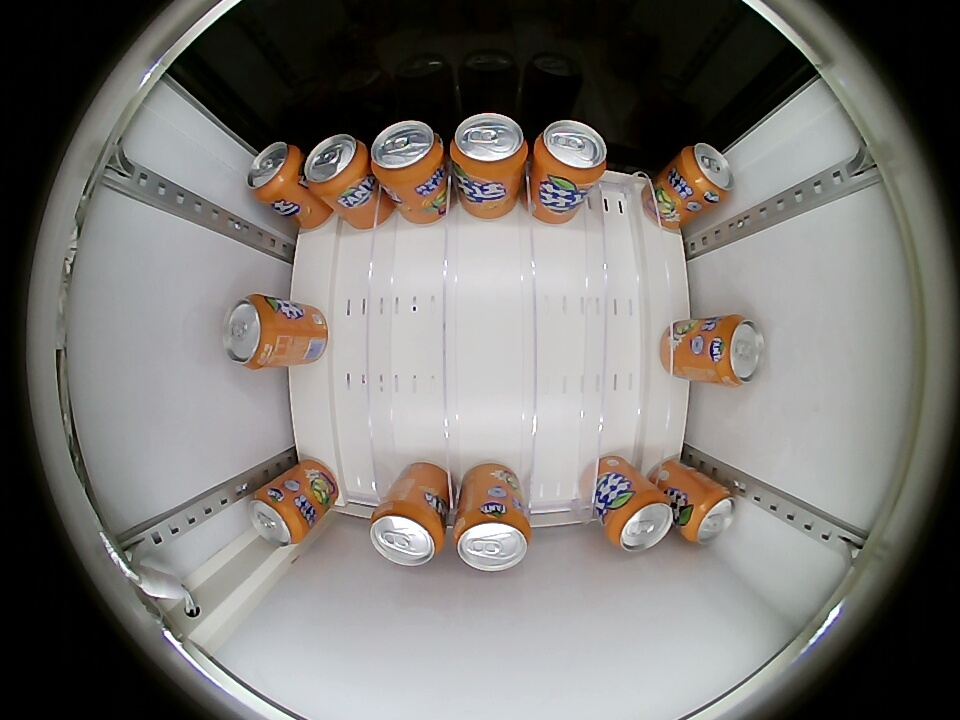fenda: (450, 113, 528, 179), (369, 500, 445, 567), (453, 507, 531, 572), (533, 120, 608, 186), (371, 121, 446, 185), (222, 294, 280, 370), (607, 492, 673, 553), (709, 314, 764, 387), (304, 134, 369, 194), (246, 140, 303, 203), (247, 487, 306, 547), (679, 142, 735, 204), (683, 485, 736, 545)
